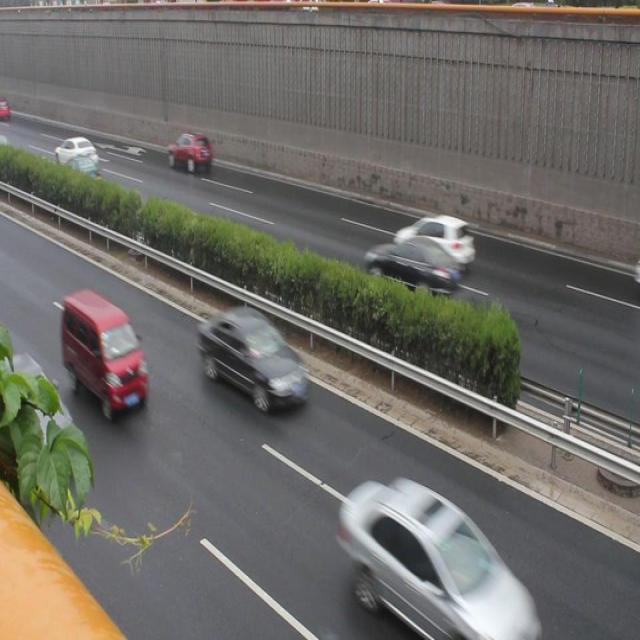car: (337, 470, 548, 640), (200, 302, 311, 416), (1, 348, 75, 482), (366, 231, 458, 305), (395, 206, 474, 268), (163, 128, 212, 178), (54, 133, 100, 169), (62, 152, 104, 190)
truck: (61, 292, 146, 416)
